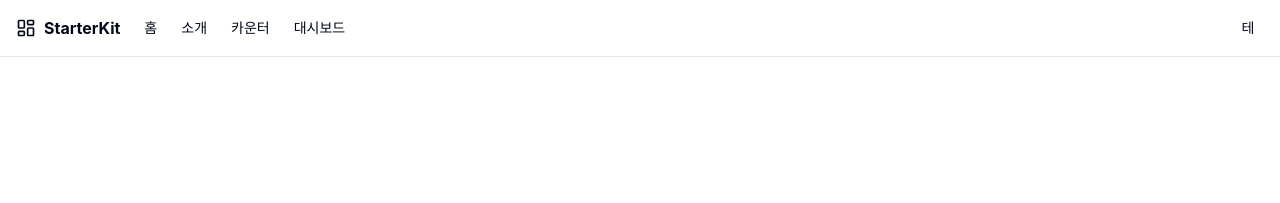
Test: Header › when user is logged in › opens user dropdown menu on avatar click
Click the button "테" at {"x": 1248, "y": 28}, box [1232,12,1264,44]
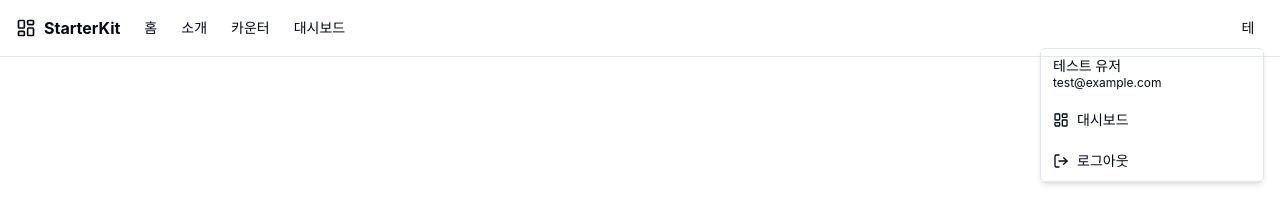
Expected: the text "테스트 유저" is shown, [1053,57,1121,74]
Expected: the text "test@example.com" is shown, [1053,75,1162,90]
